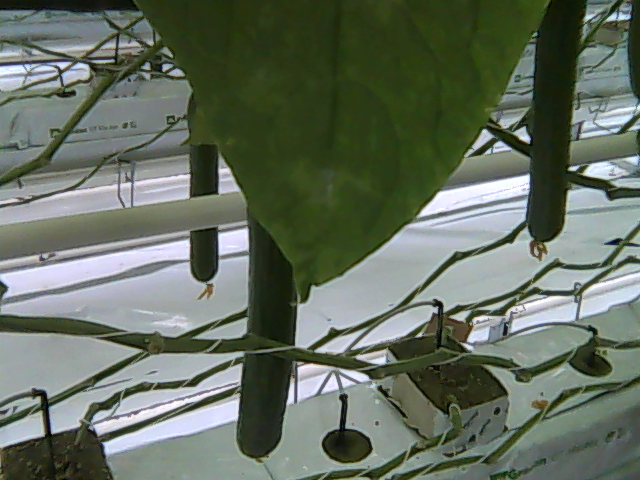concombre: (233, 198, 303, 467), (522, 1, 587, 254)
